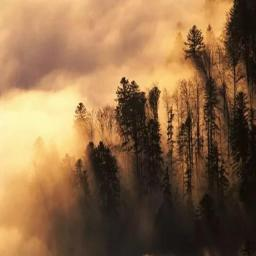Heavy smoke: (0, 0, 229, 256), (0, 135, 202, 256), (2, 0, 227, 95)
